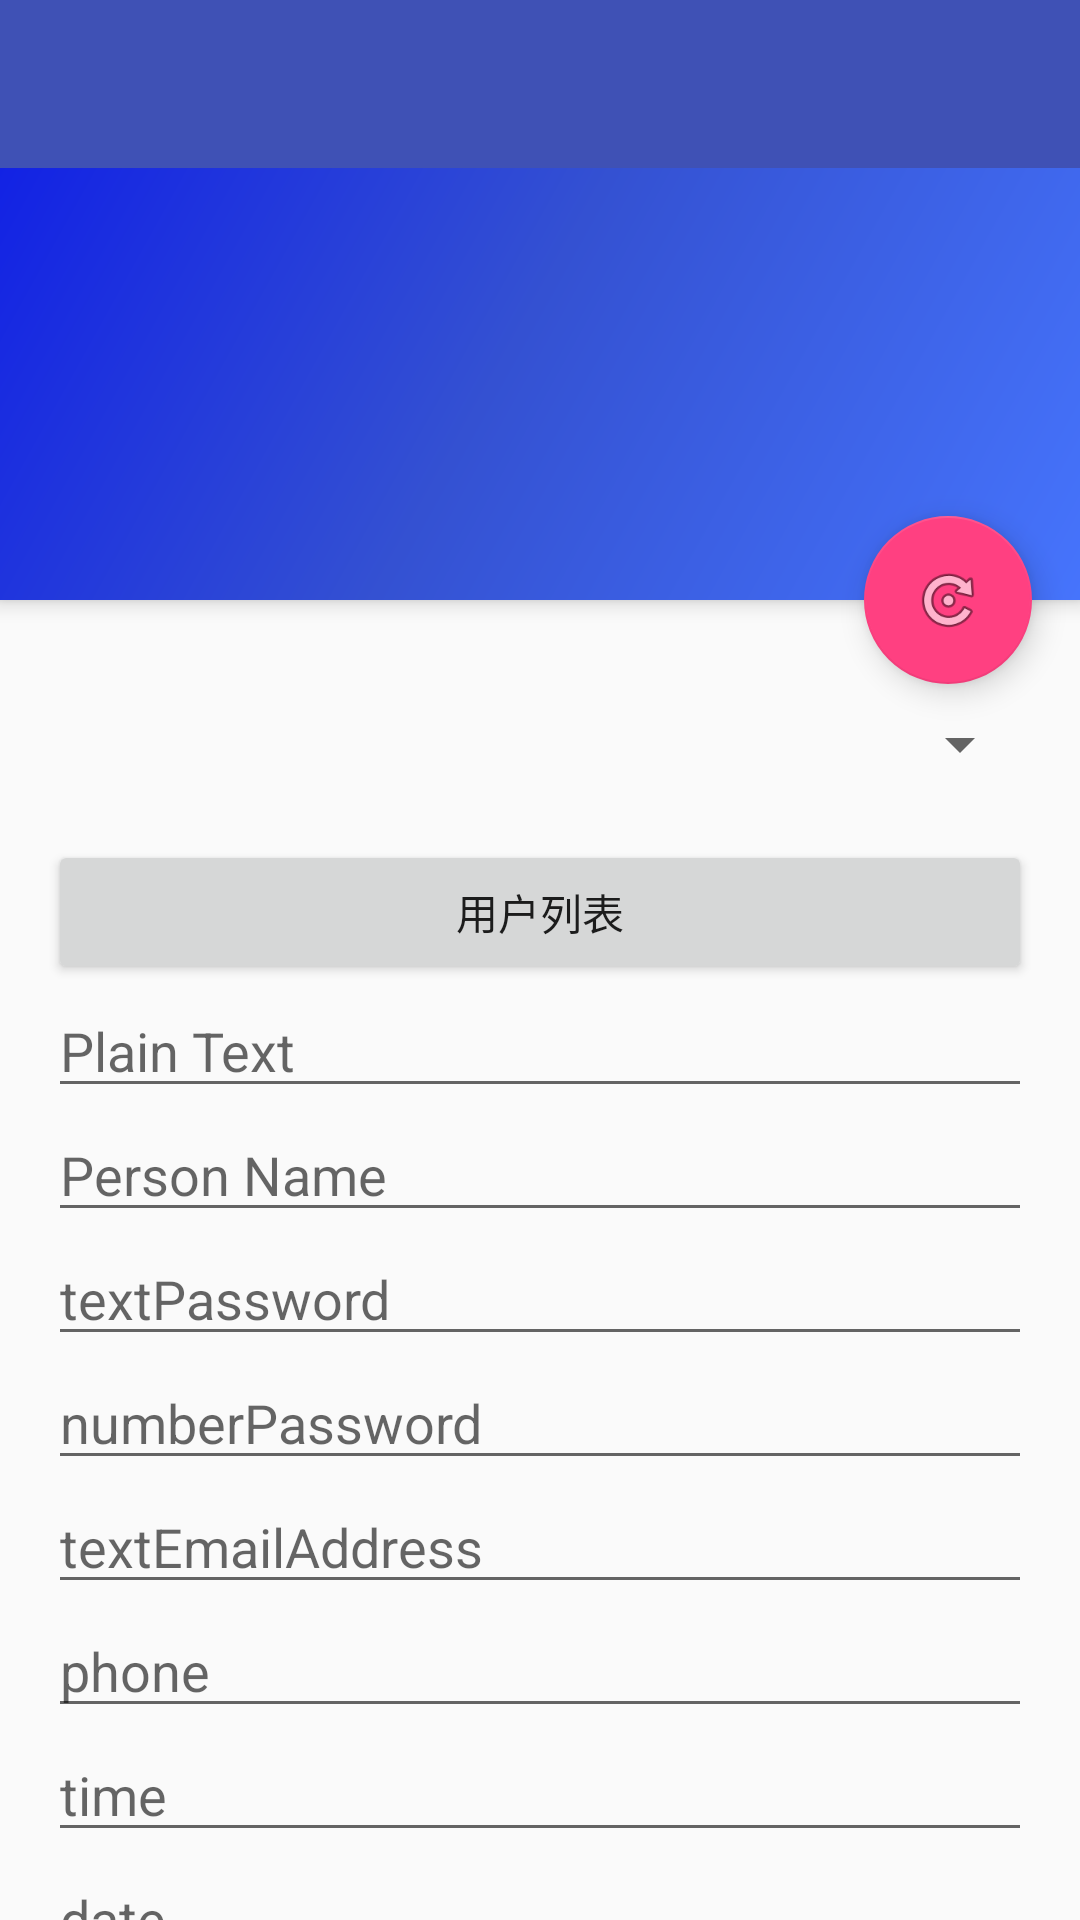

Point at icon controls on the screen. Image size 1080 x 1920, points as point (x, y).
rotate: point (948, 600)
